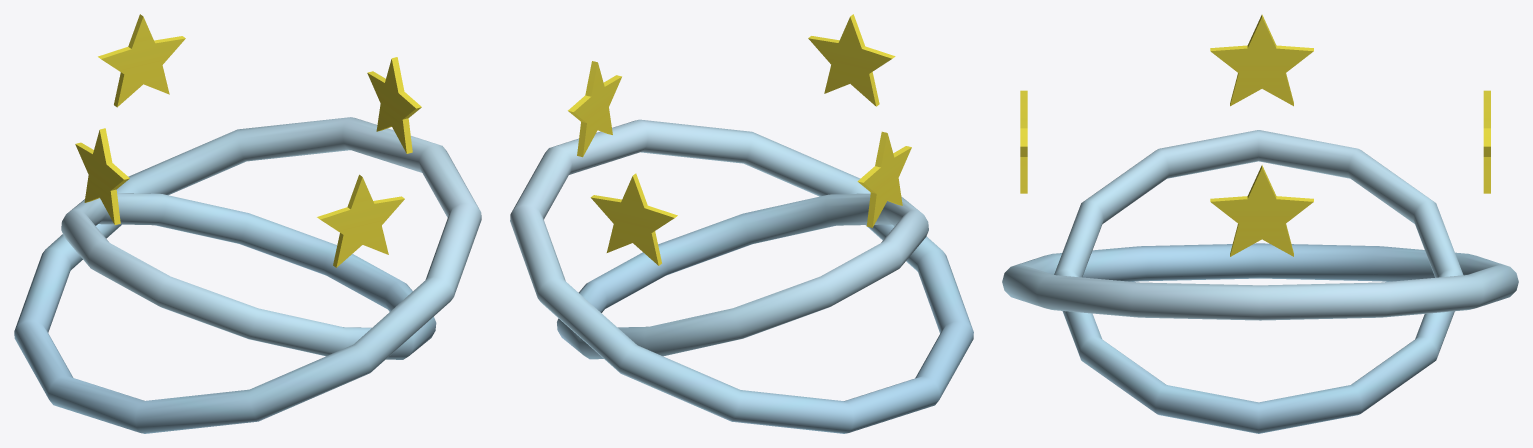
The model's file is VFX_Slap.fbx.
The picture shows the model from 3 angles, left to right: view 1: azimuth 30°, elevation 25°; view 2: azimuth 150°, elevation 25°; view 3: azimuth 270°, elevation 25°; orthographic projection. The views are drawn at different scales.
Parts seen in each view (by area): view 1: Torus, Torus.001; view 2: Torus, Torus.001; view 3: Torus.001, Torus.
Boxes of the visible parts, x1,y1,x2,y2 form: Torus: [14, 14, 481, 433]; Torus.001: [61, 57, 436, 359]; Torus: [510, 14, 973, 433]; Torus.001: [557, 61, 928, 359]; Torus.001: [1054, 14, 1463, 433]; Torus: [1002, 90, 1518, 320].
Size of the model in its own units: 304 by 194 by 322.
